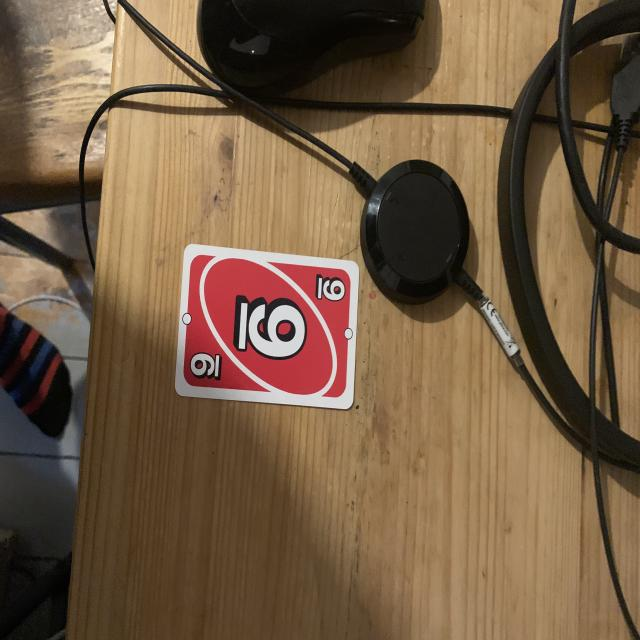lred-9: (312, 270, 348, 312)
